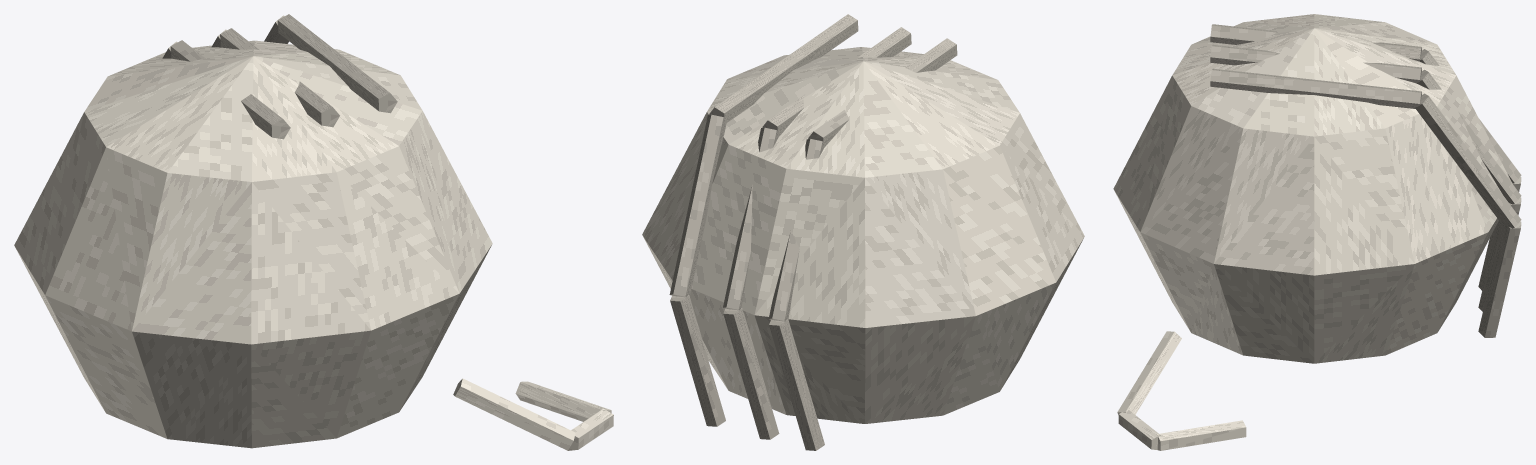
The model's file is yarn.glb.
3 renders of one model, left to right at view 1: azimuth 30°, elevation 25°; view 2: azimuth 150°, elevation 25°; view 3: azimuth 270°, elevation 25°, orthographic. The views are drawn at different scales.
Visible parts, largest first — view 1: block_ball of yarn, block_wrapped yarn strand 2 (×3), block_loose yarn end 0, block_loose yarn end 2, block_loose yarn end 1; view 2: block_ball of yarn, block_wrapped yarn strand 0 (×3), block_wrapped yarn strand 1 (×3), block_wrapped yarn strand 2 (×3); view 3: block_ball of yarn, block_wrapped yarn strand 2 (×3), block_wrapped yarn strand 1 (×3), block_wrapped yarn strand 0 (×3), block_loose yarn end 0, block_loose yarn end 2, block_loose yarn end 1.
Part boxes in pixels (x1,y1,x2,y2): block_ball of yarn: (14, 40, 492, 448); block_wrapped yarn strand 2 (×3): (170, 14, 397, 139); block_loose yarn end 0: (453, 378, 575, 450); block_loose yarn end 2: (515, 381, 611, 421); block_loose yarn end 1: (568, 408, 613, 450); block_ball of yarn: (642, 47, 1084, 423); block_wrapped yarn strand 0 (×3): (670, 295, 824, 450); block_wrapped yarn strand 1 (×3): (669, 114, 823, 321); block_wrapped yarn strand 2 (×3): (709, 14, 957, 147); block_ball of yarn: (1113, 14, 1512, 363); block_wrapped yarn strand 2 (×3): (1210, 24, 1421, 108); block_wrapped yarn strand 1 (×3): (1415, 49, 1521, 229); block_wrapped yarn strand 0 (×3): (1478, 177, 1521, 337); block_loose yarn end 0: (1117, 331, 1181, 414); block_loose yarn end 2: (1157, 420, 1246, 450); block_loose yarn end 1: (1118, 410, 1160, 449).
Size of the model in its own units: 0.1197 by 0.0904 by 0.1041.
1 material, 1 textured.
